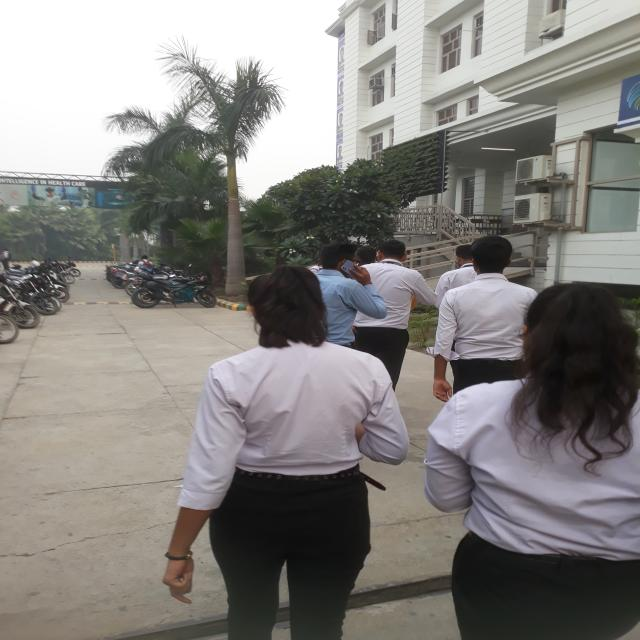unsafe: (169, 268, 375, 640), (453, 280, 639, 640), (436, 235, 528, 379), (359, 242, 413, 376), (316, 242, 366, 340)
